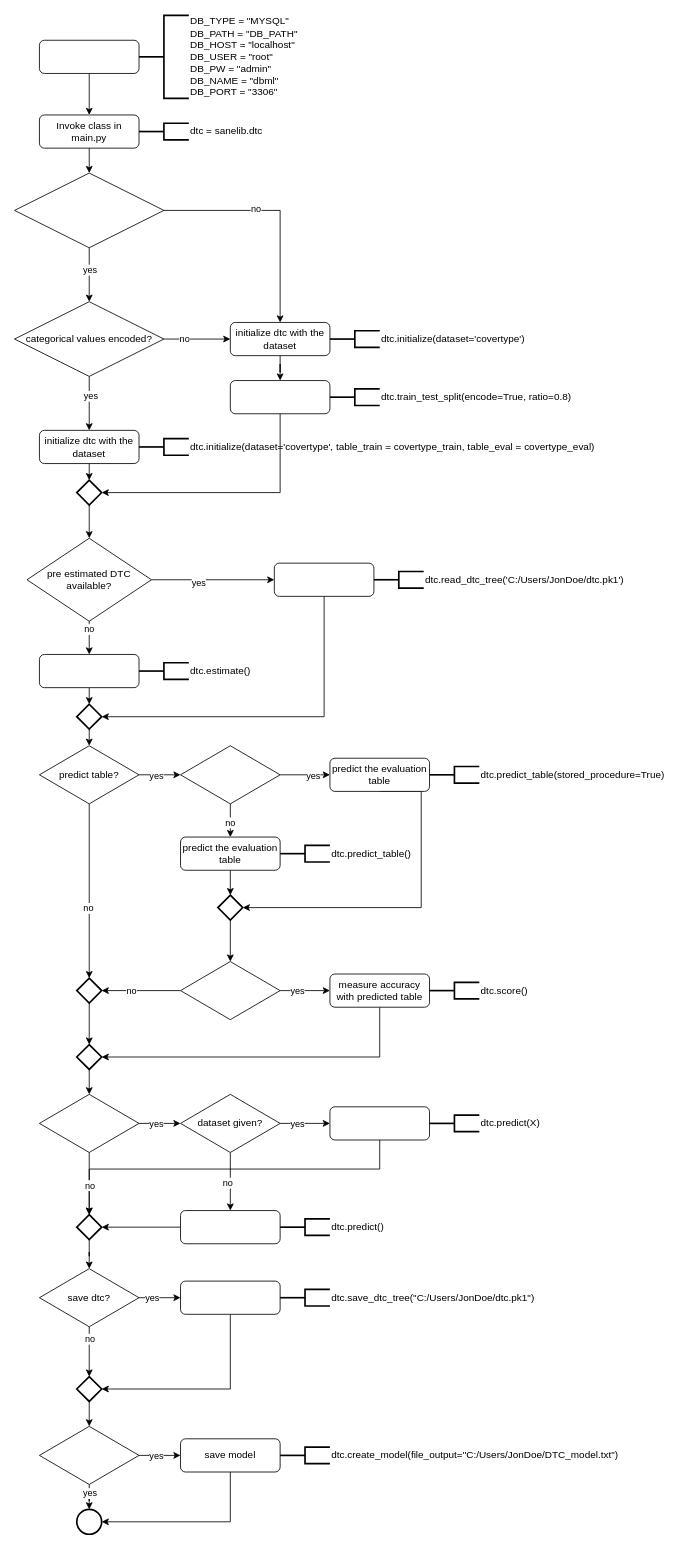
Image size: 679x1549. Some labels were removed from this diagram. Here are the shapes that lost their labels. From the top down, the box of each, then its label:
(39, 39, 139, 73): Enter connection info to config.py
(14, 172, 164, 248): evaluation / training set available?
(229, 380, 330, 414): train/test split on dataset with encoding
(273, 562, 374, 596): read the saved DTC tree
(39, 654, 139, 688): estimate the Decision Tree Classifier
(180, 745, 280, 804): stored procedure?
(180, 961, 280, 1020): measure accuracy?
(39, 1094, 139, 1152): predict dataset?
(329, 1106, 430, 1140): predict given dataset
(180, 1210, 280, 1244): predict data fetched from eval table
(180, 1280, 280, 1314): save dtc
(39, 1426, 139, 1484): save model?
(76, 1508, 102, 1535): End
